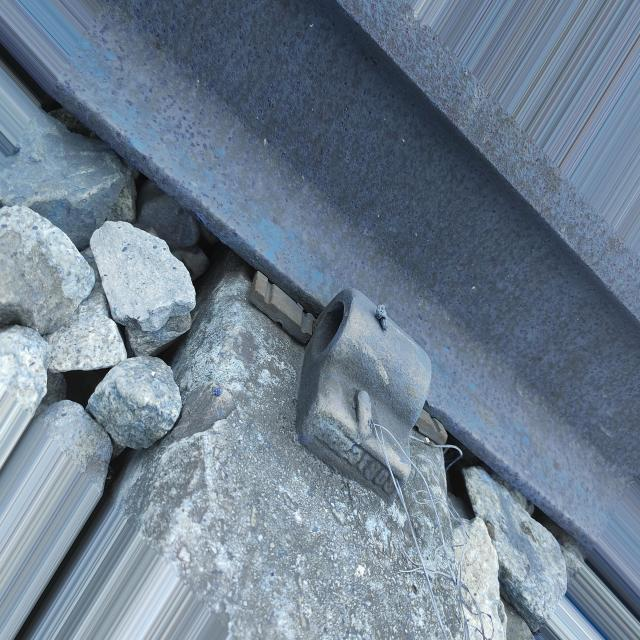Missing Fastener: (295, 288, 447, 523)
